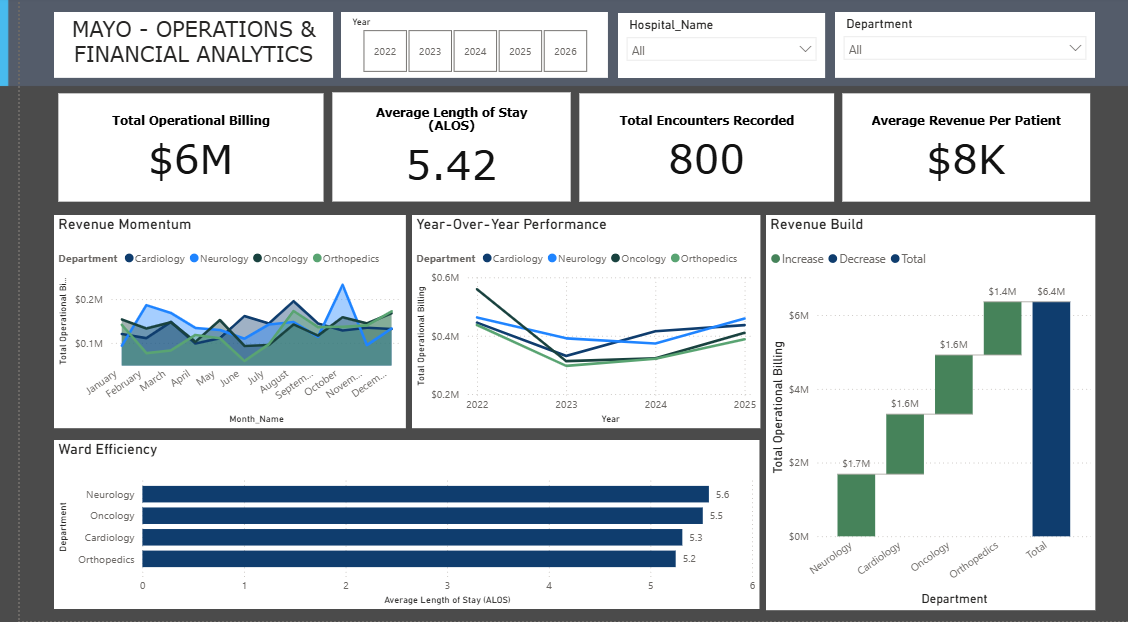

The page's visual inventory and layout, read from the dashboard file:
{"tool":"powerbi","page":{"name":"Page 1","canvas":[1280,720],"ordinal":0},"visuals":[{"type":"slicer","fields":{"Values":["Dim_Calendar.Year"]},"box":[370.6,17.6,308.1,76],"z":0},{"type":"slicer","fields":{"Values":["mayo_analytics fact_hospital_encounters_master.Hospital_Name"]},"box":[689.5,19,238.9,74.7],"z":1000},{"type":"slicer","fields":{"Values":["mayo_analytics fact_hospital_encounters_master.Department"]},"box":[940.7,17.6,300,76],"z":2000},{"type":"cardVisual","fields":{"Data":["mayo_analytics fact_hospital_encounters_master.Total Operational Billing"]},"box":[39.2,106.2,316.2,135],"z":3000},{"type":"cardVisual","fields":{"Data":["mayo_analytics fact_hospital_encounters_master.Total Patient Volume"]},"box":[640.4,106.2,304.6,135],"z":4000},{"type":"cardVisual","fields":{"Data":["Dim_Calendar.Average Revenue Per Patient"]},"box":[943.8,106.2,296.5,135],"z":5000},{"type":"cardVisual","fields":{"Data":["Dim_Calendar.Average Length of Stay (ALOS)"]},"box":[355.4,105,285,136.2],"z":6000},{"type":"areaChart","title":"Revenue Momentum","fields":{"Y":["mayo_analytics fact_hospital_encounters_master.Total Operational Billing"],"Series":["mayo_analytics fact_hospital_encounters_master.Department"],"Category":["Dim_Calendar.Month_Name"]},"box":[39.4,251.1,405.9,245.7],"z":7000},{"type":"lineChart","title":"Year-Over-Year Performance","fields":{"Y":["mayo_analytics fact_hospital_encounters_master.Total Operational Billing"],"Category":["Dim_Calendar.Year"],"Series":["mayo_analytics fact_hospital_encounters_master.Department"]},"box":[452,251.1,401.8,245.7],"z":8000},{"type":"clusteredBarChart","title":"Ward Efficiency","fields":{"Category":["mayo_analytics fact_hospital_encounters_master.Department"],"Y":["Dim_Calendar.Average Length of Stay (ALOS)"]},"box":[39.4,511.7,814.4,195.5],"z":9000},{"type":"waterfallChart","title":"Revenue Build","fields":{"Category":["mayo_analytics fact_hospital_encounters_master.Department"],"Y":["mayo_analytics fact_hospital_encounters_master.Total Operational Billing"]},"box":[860.6,251.1,380.1,456.1],"z":10000},{"type":"textbox","box":[39.2,17.3,321.9,76.2],"z":11000}]}

Visuals, with their boxes in screenshot pixels (x1, y1, x2, y2), scaled from the page's 1280x720 canvas onto the 1128x622 screenshot:
slicer - Dim_Calendar.Year: [x1=327, y1=15, x2=598, y2=81]
slicer - mayo_analytics fact_hospital_encounters_master.Hospital_Name: [x1=608, y1=16, x2=818, y2=81]
slicer - mayo_analytics fact_hospital_encounters_master.Department: [x1=829, y1=15, x2=1093, y2=81]
cardVisual - mayo_analytics fact_hospital_encounters_master.Total Operational Billing: [x1=35, y1=92, x2=313, y2=208]
cardVisual - mayo_analytics fact_hospital_encounters_master.Total Patient Volume: [x1=564, y1=92, x2=833, y2=208]
cardVisual - Dim_Calendar.Average Revenue Per Patient: [x1=832, y1=92, x2=1093, y2=208]
cardVisual - Dim_Calendar.Average Length of Stay (ALOS): [x1=313, y1=91, x2=564, y2=208]
"Revenue Momentum" areaChart: [x1=35, y1=217, x2=392, y2=429]
"Year-Over-Year Performance" lineChart: [x1=398, y1=217, x2=752, y2=429]
"Ward Efficiency" clusteredBarChart: [x1=35, y1=442, x2=752, y2=611]
"Revenue Build" waterfallChart: [x1=758, y1=217, x2=1093, y2=611]
textbox: [x1=35, y1=15, x2=318, y2=81]
